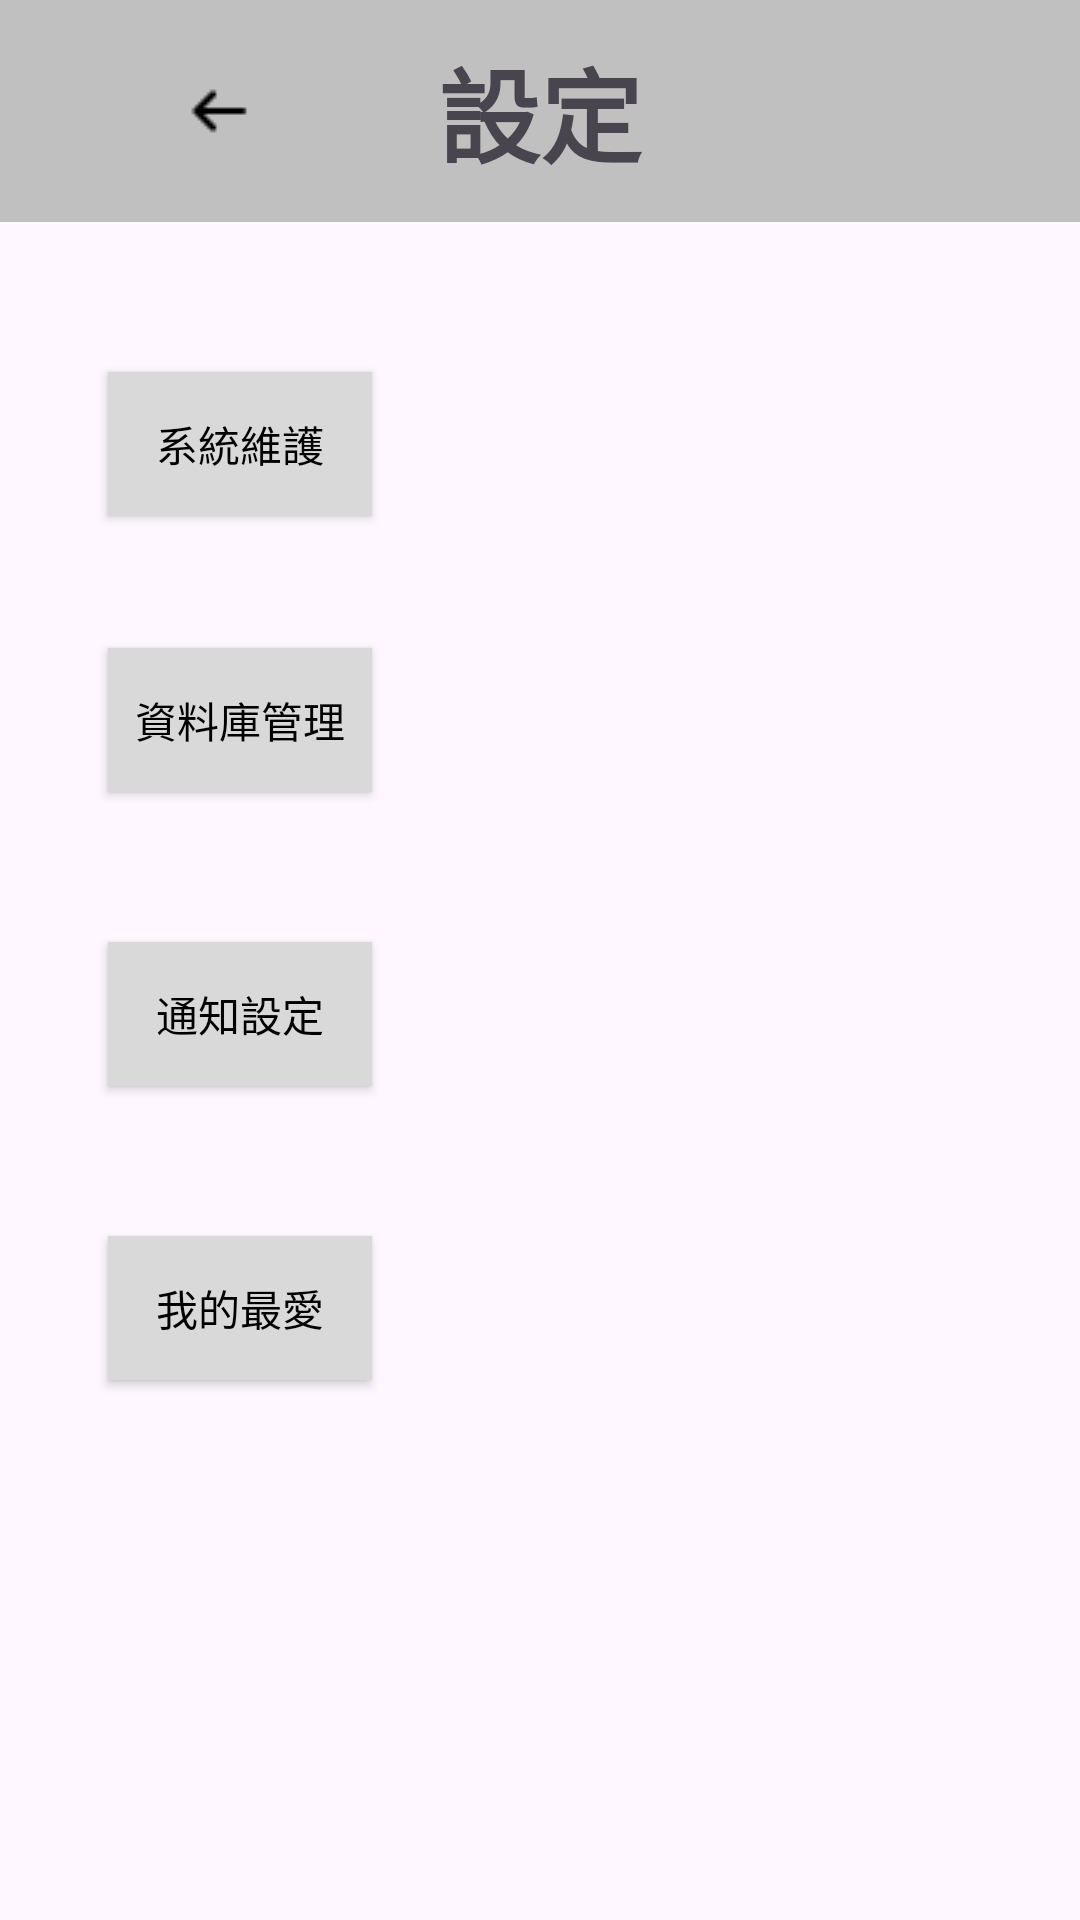

Where icons sit on this 1080 × 1920 app screen, as bbox=[x1, y1, x2, y2]:
arrow left: bbox=[191, 89, 247, 133]
